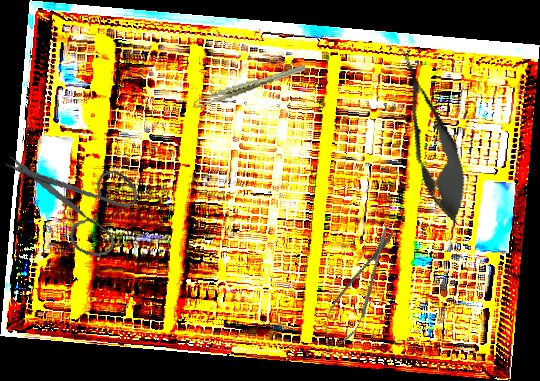Iris Scissors: (1, 136, 147, 269)
Micro Scissor: (383, 42, 480, 230), (311, 216, 409, 360)
Tissue Forceps: (190, 64, 309, 109)
